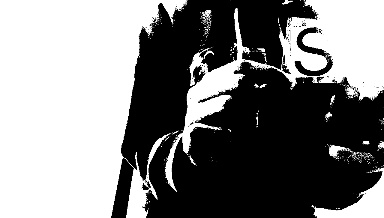S: (288, 19, 337, 77)
